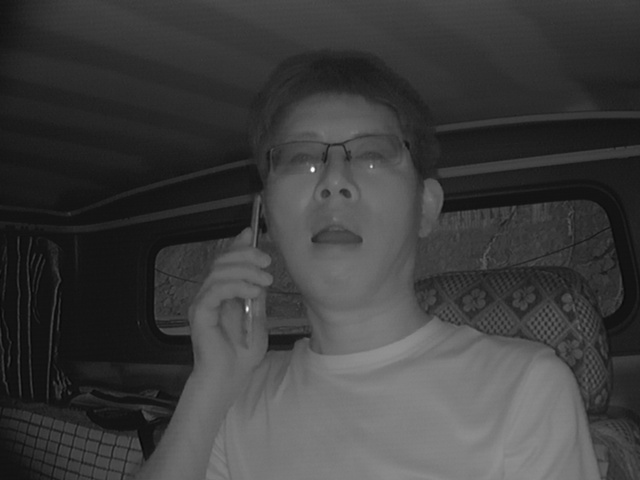hand: (185, 228, 273, 371)
